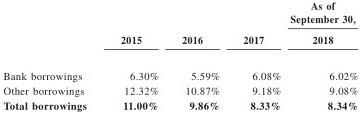column: (3, 1, 87, 116), (290, 1, 357, 117), (120, 1, 158, 117), (182, 1, 220, 117), (244, 1, 281, 117)
row: (1, 15, 360, 25), (1, 2, 360, 10), (1, 36, 360, 44), (1, 87, 360, 95), (1, 102, 360, 110), (1, 73, 360, 80)
